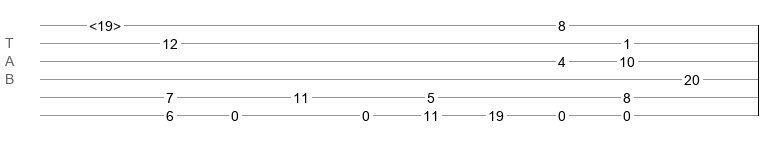0: (231, 108, 239, 118), (362, 108, 370, 118), (558, 108, 566, 118), (623, 108, 631, 118)
1: (623, 36, 631, 46)
10: (619, 54, 635, 64)
11: (293, 90, 309, 100), (423, 108, 439, 118)
12: (162, 36, 178, 46)
19: (488, 108, 504, 118)
20: (684, 72, 700, 82)
4: (558, 54, 566, 64)
5: (427, 90, 435, 100)
6: (166, 108, 174, 118)
7: (166, 90, 174, 100)
8: (558, 18, 566, 28), (623, 90, 631, 100)
harmonic: (89, 18, 121, 28)
